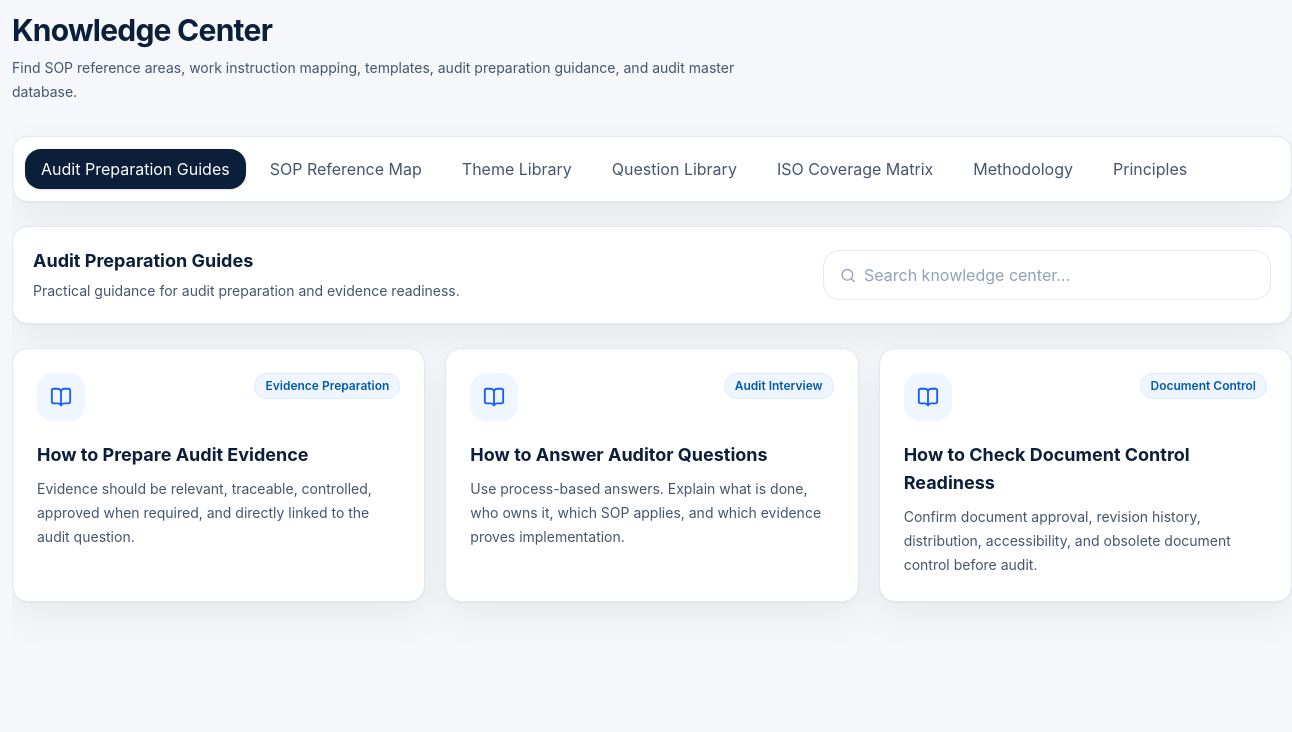
Test: KnowledgeCenter › loads every master dataset and safely renders theme values
Click the button "Theme Library": (517, 169) [446, 149, 588, 189]
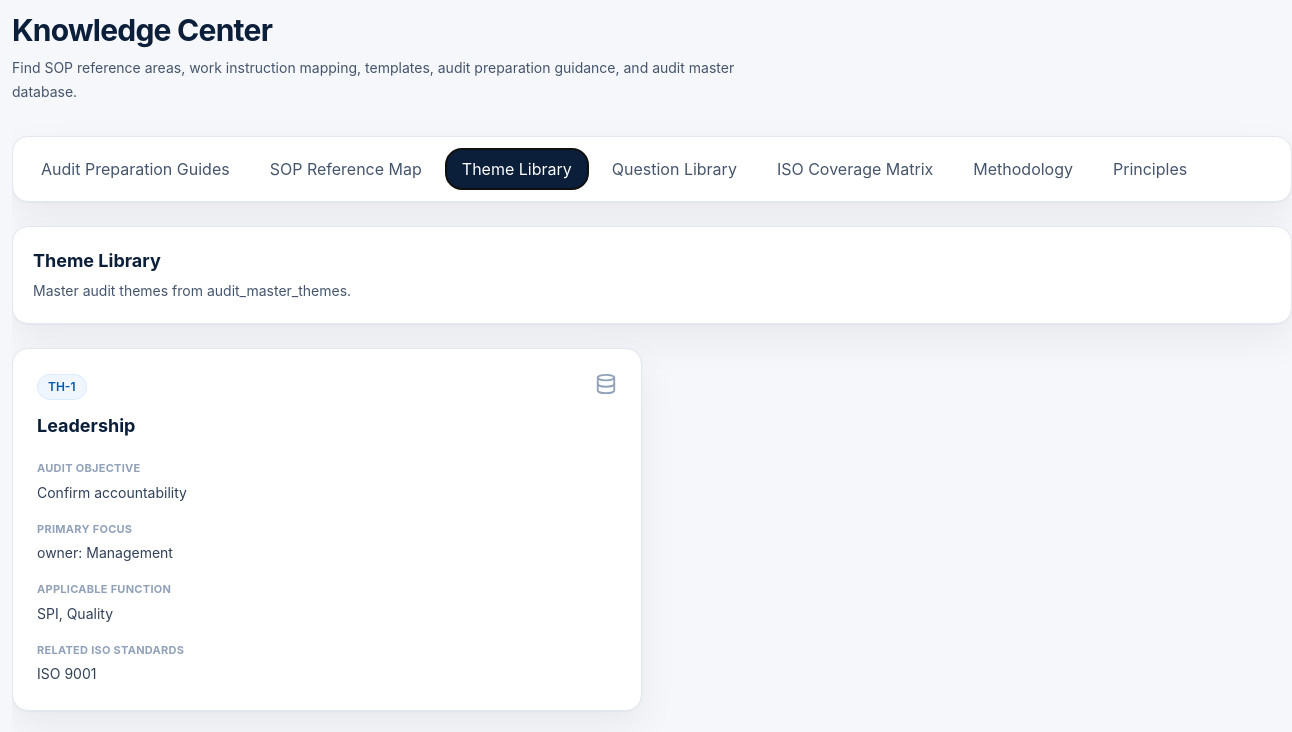
Now the heading "Leadership" is shown, box [37, 412, 135, 440]
Now the text "owner: Management" is shown, box [37, 544, 173, 561]
Now the text "SPI, Quality" is shown, box [37, 604, 113, 622]
